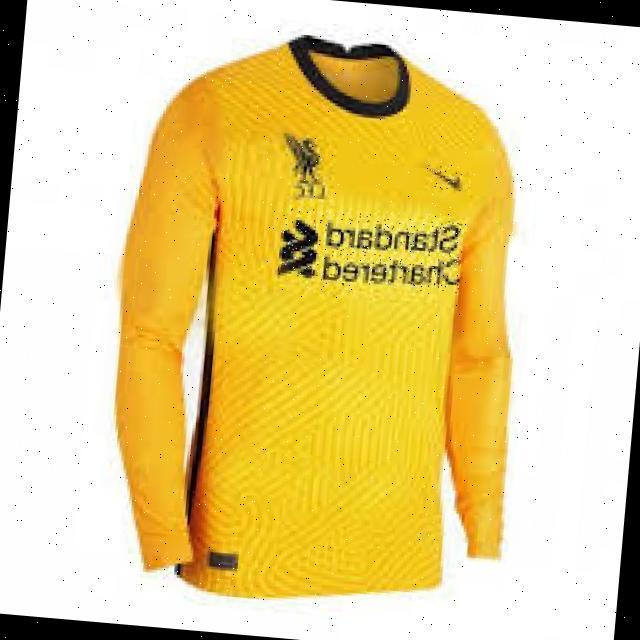Nike: (425, 164, 462, 192)
Standard Chartered: (276, 206, 465, 295)
